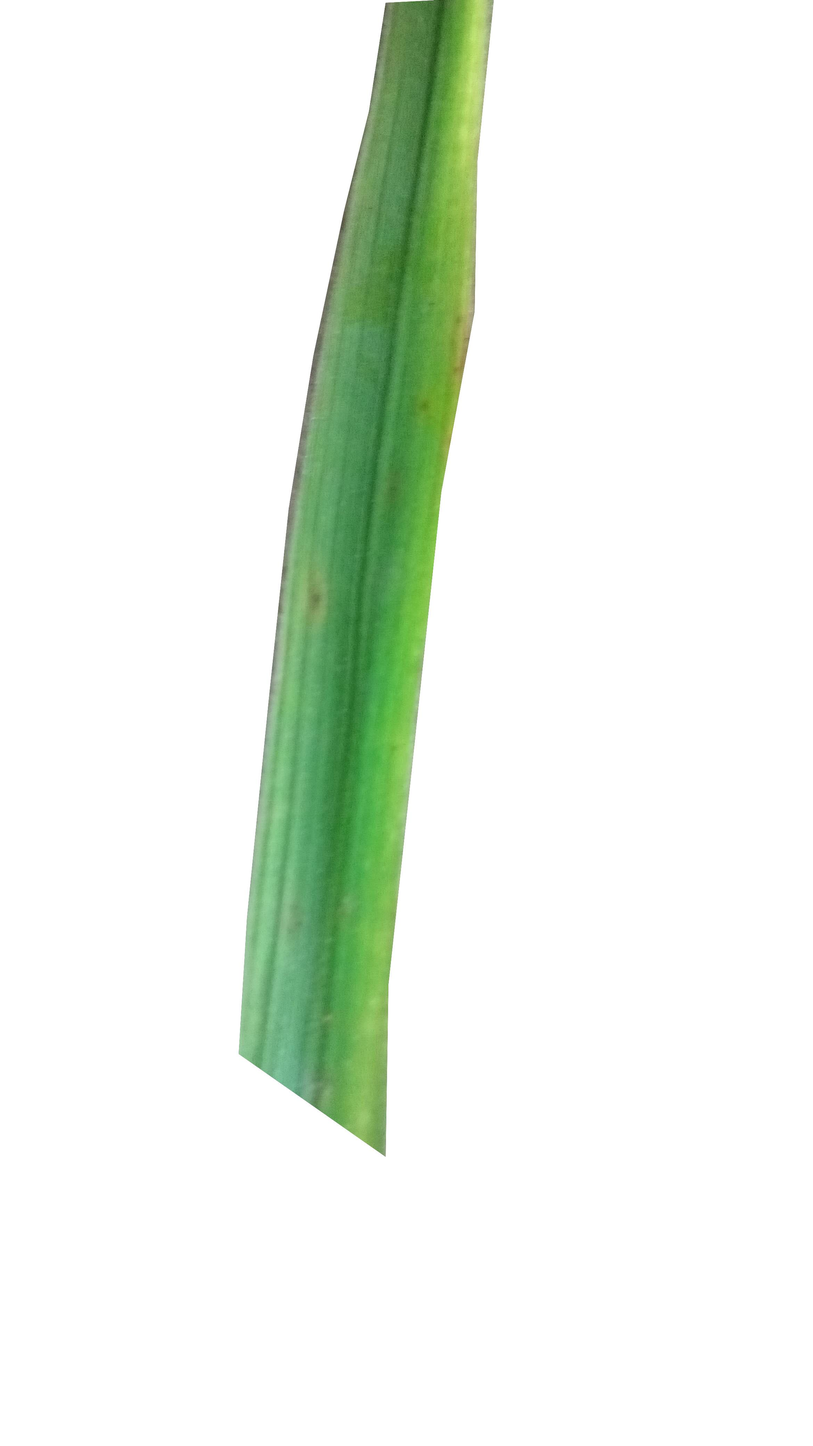Tungro: (382, 163, 476, 476), (417, 7, 493, 209)
